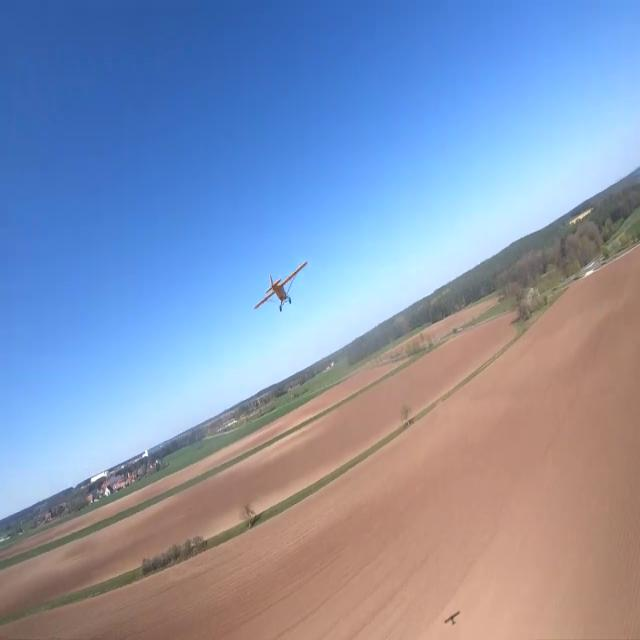iha: (252, 262, 310, 311)
